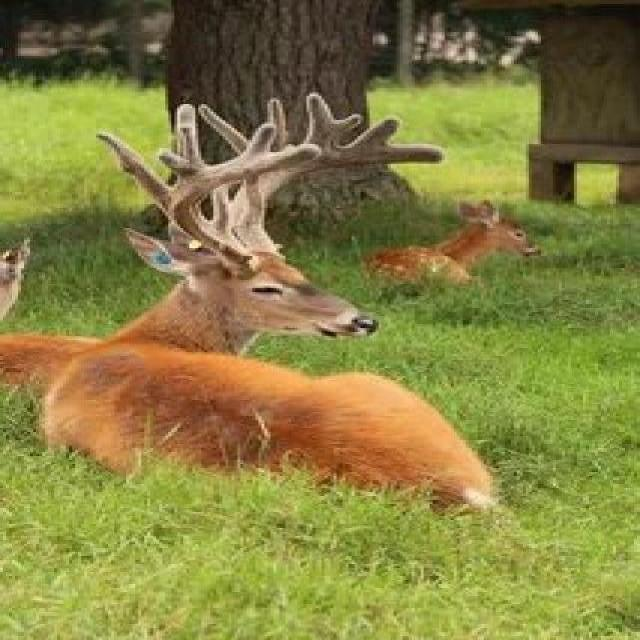deer: (6, 178, 545, 566), (336, 143, 576, 354)
